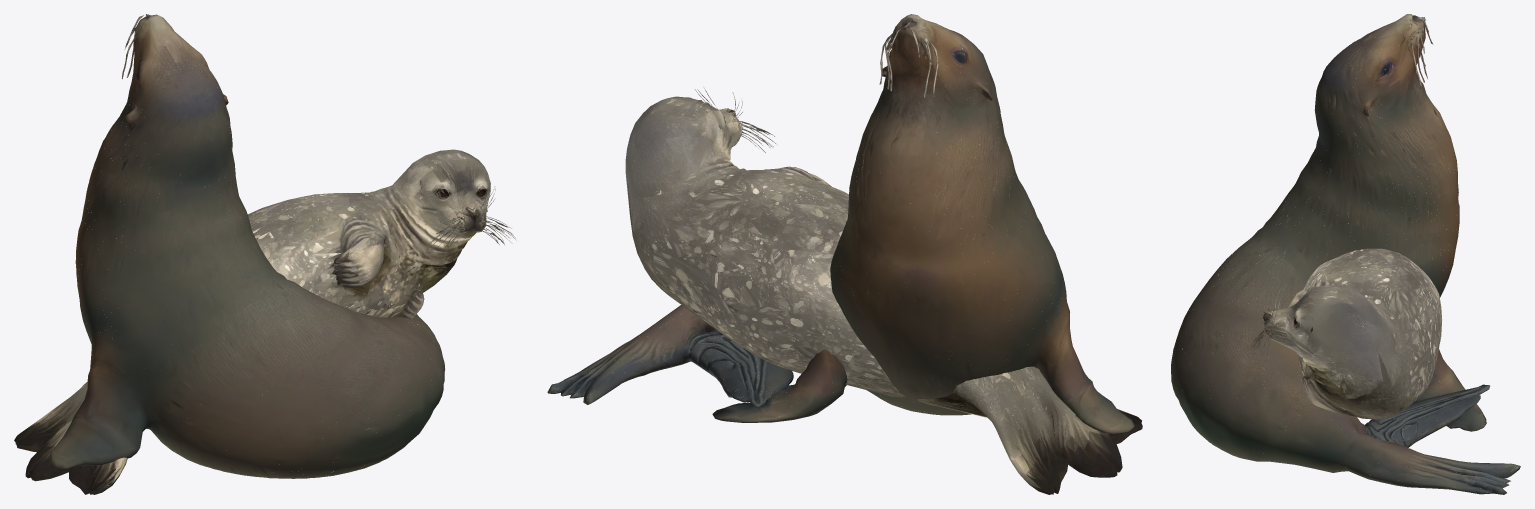
File: zoo_marine.glb
The picture shows the model from 3 angles, left to right: view 1: azimuth 30°, elevation 25°; view 2: azimuth 150°, elevation 25°; view 3: azimuth 270°, elevation 25°; orthographic projection. The views are drawn at different scales.
Visible parts, largest first — view 1: sealion, harborseal; view 2: sealion, harborseal; view 3: sealion, harborseal.
Part boxes in pixels (<box>): sealion: <box>49,14,445,478</box>; harborseal: <box>14,149,516,494</box>; sealion: <box>547,14,1134,434</box>; harborseal: <box>625,88,1142,494</box>; sealion: <box>1171,14,1520,494</box>; harborseal: <box>1250,248,1441,419</box>.
Size of the model in its own units: 1.6 by 1.38 by 1.16.
Materials: 2 (2 with a texture image).
